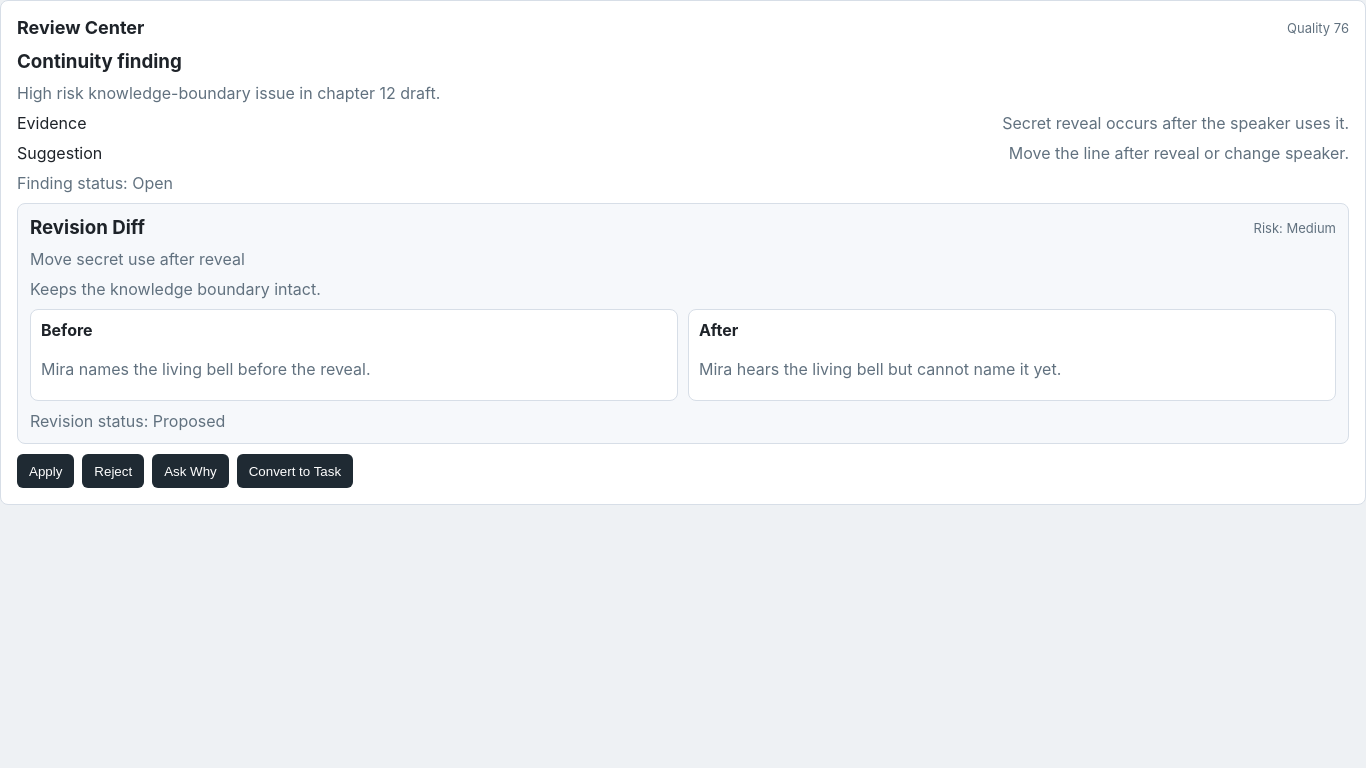
Scenario: workbench panels › updates review finding state from action buttons
The width and height of the screenshot is (1366, 768).
Click the button "Apply" at (46, 471), box left=17, top=454, right=74, bottom=488
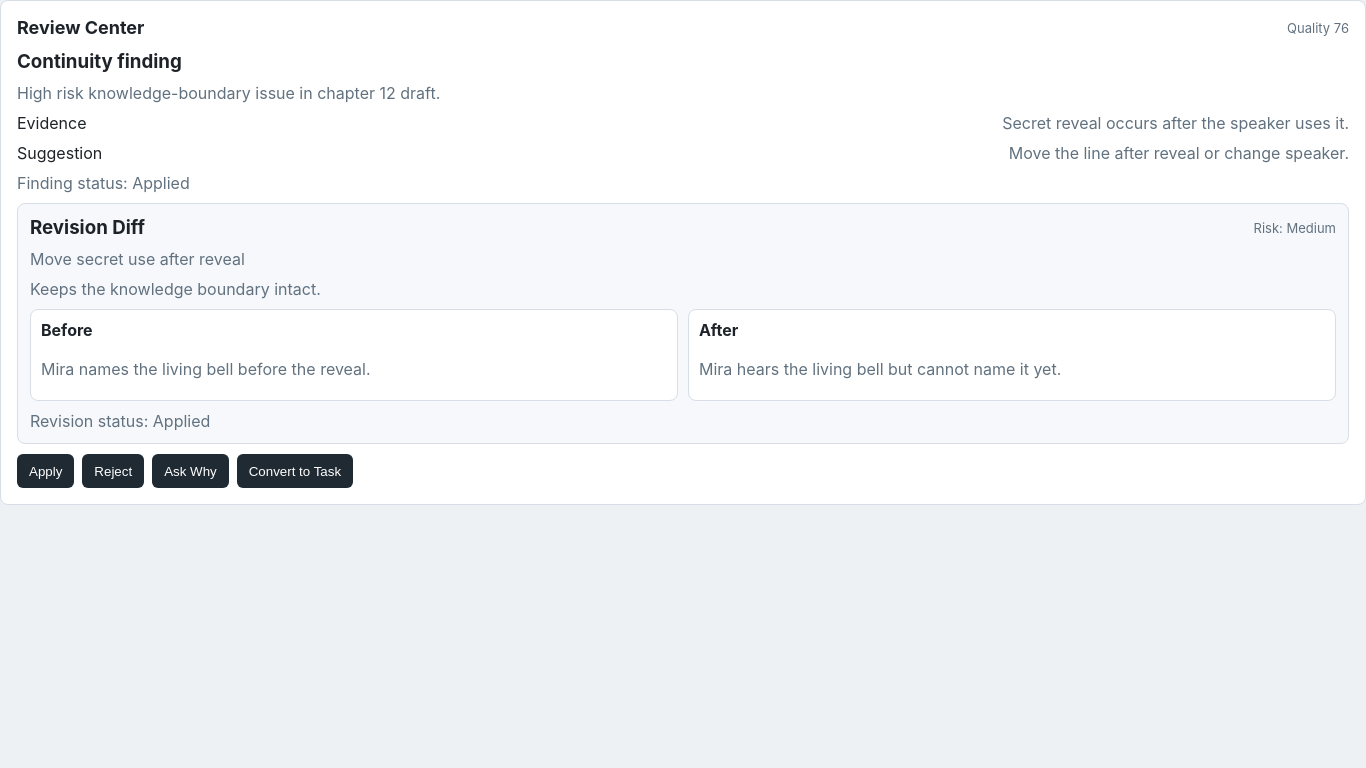
Result: the text "Finding status: Applied" is shown at left=17, top=173, right=190, bottom=193
Click the button "Reject" at (113, 471), box left=82, top=454, right=144, bottom=488
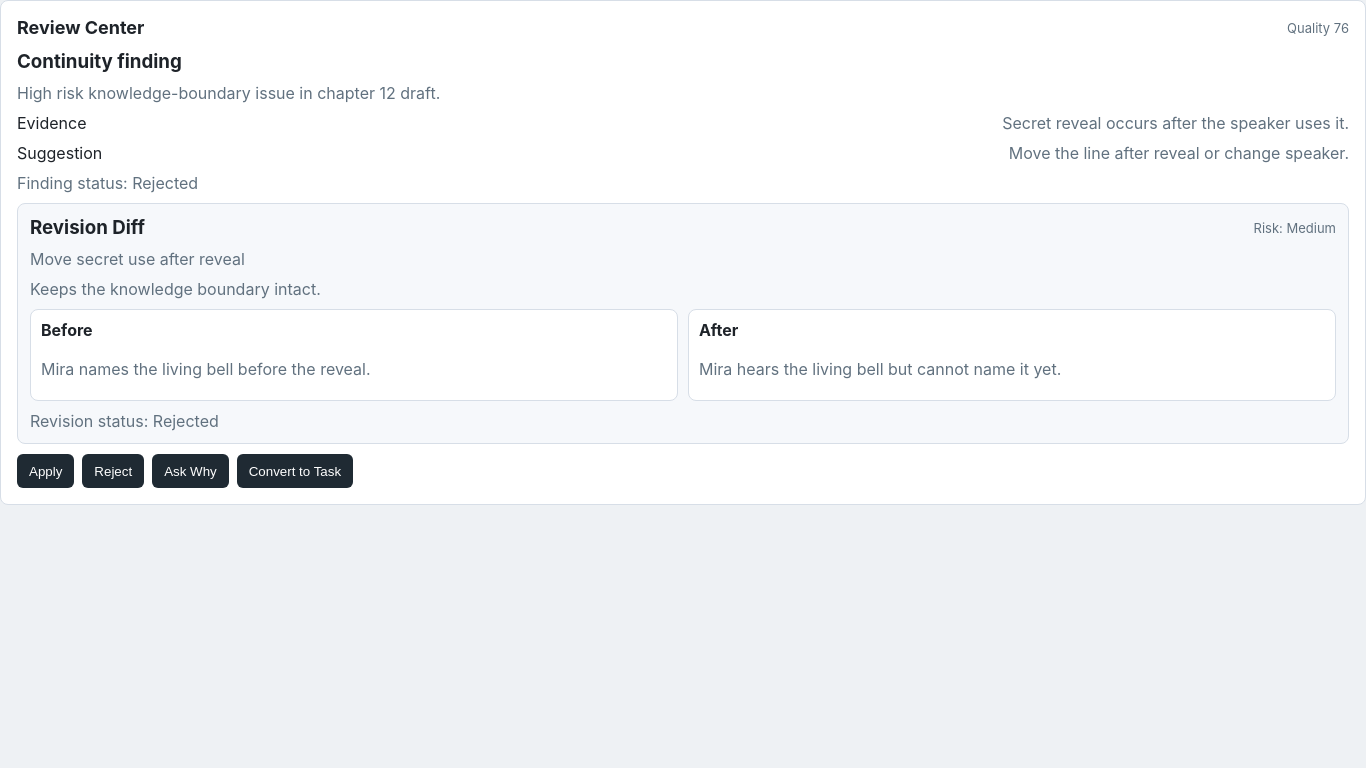
Result: the text "Finding status: Rejected" is shown at left=17, top=173, right=198, bottom=193
Click the button "Ask Why" at (190, 471), box left=152, top=454, right=229, bottom=488
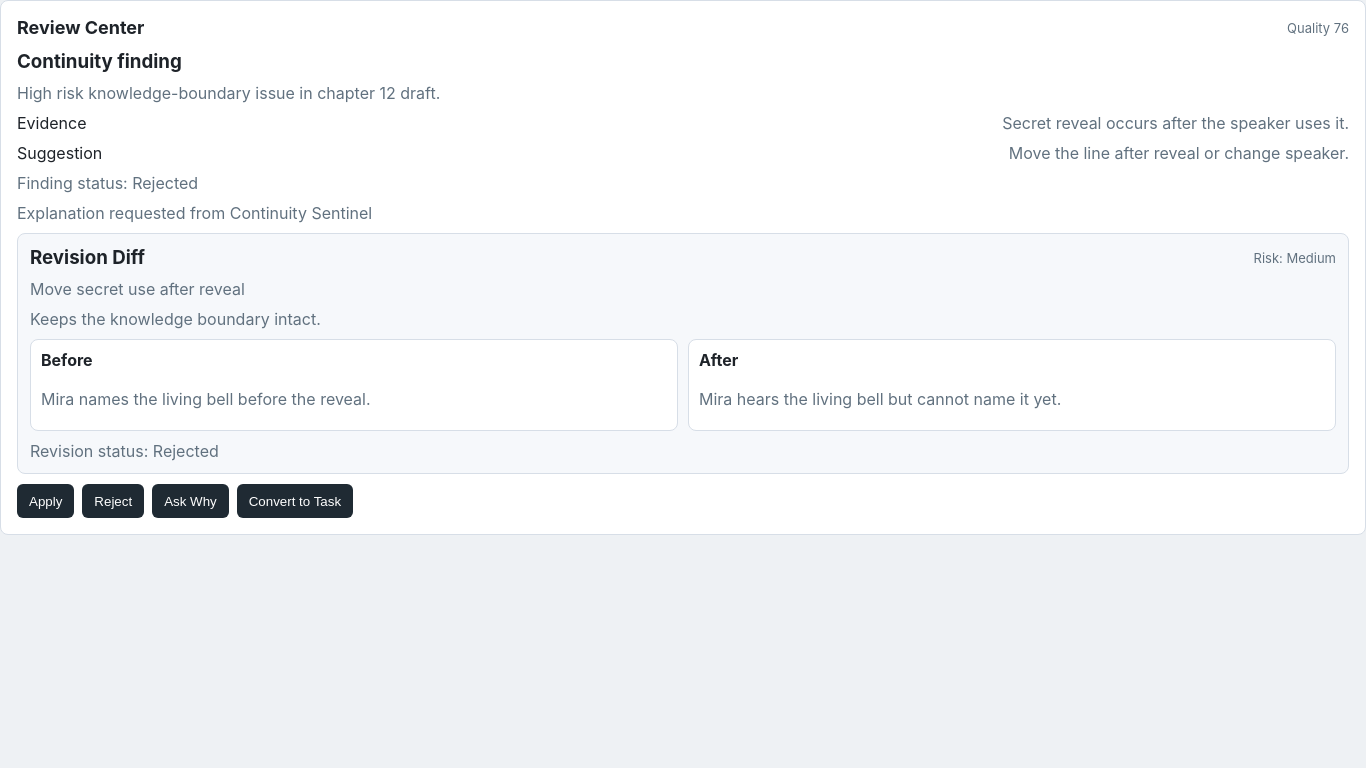
Result: the text "Explanation requested from Continuity Sentinel" is shown at left=17, top=203, right=372, bottom=223
Click the button "Convert to Task" at (295, 501), box left=237, top=484, right=353, bottom=518
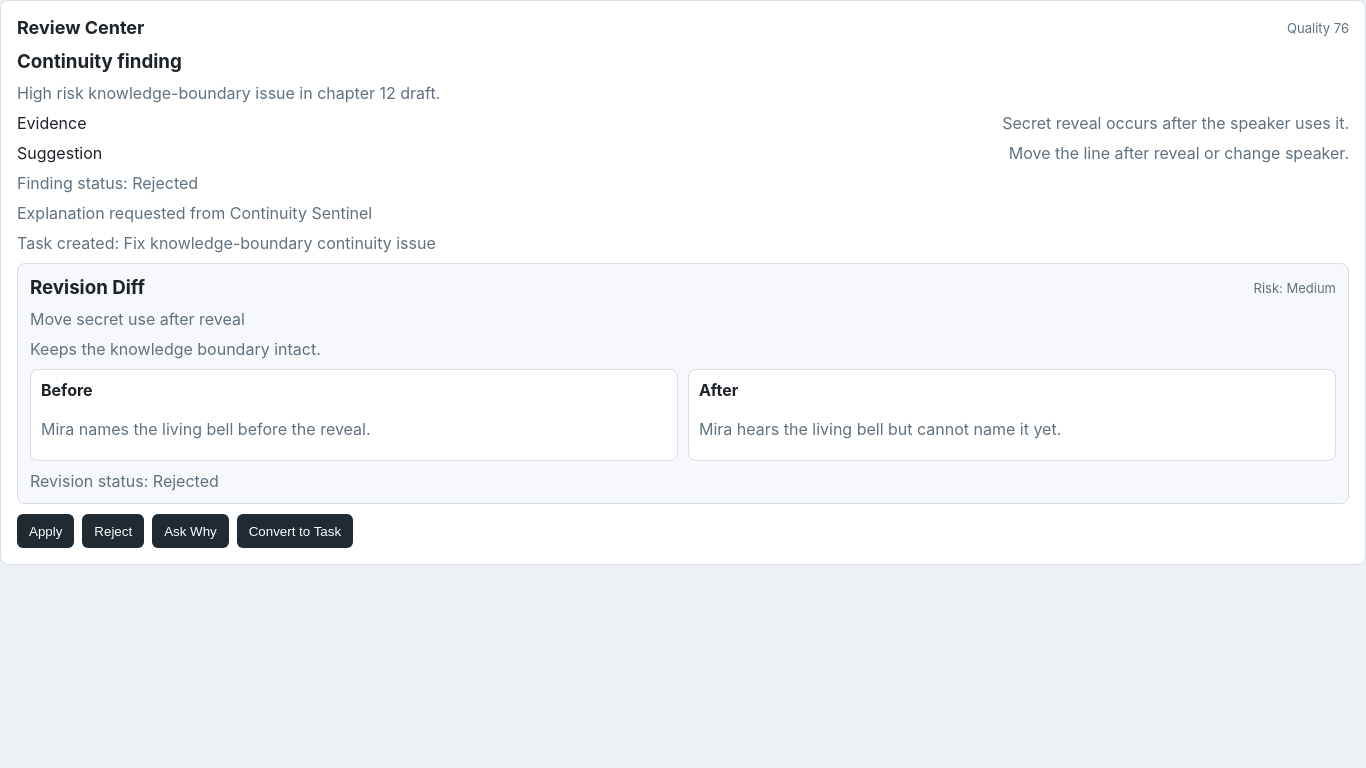
Result: the text "Task created: Fix knowledge-boundary continuity issue" is shown at left=17, top=233, right=436, bottom=253
